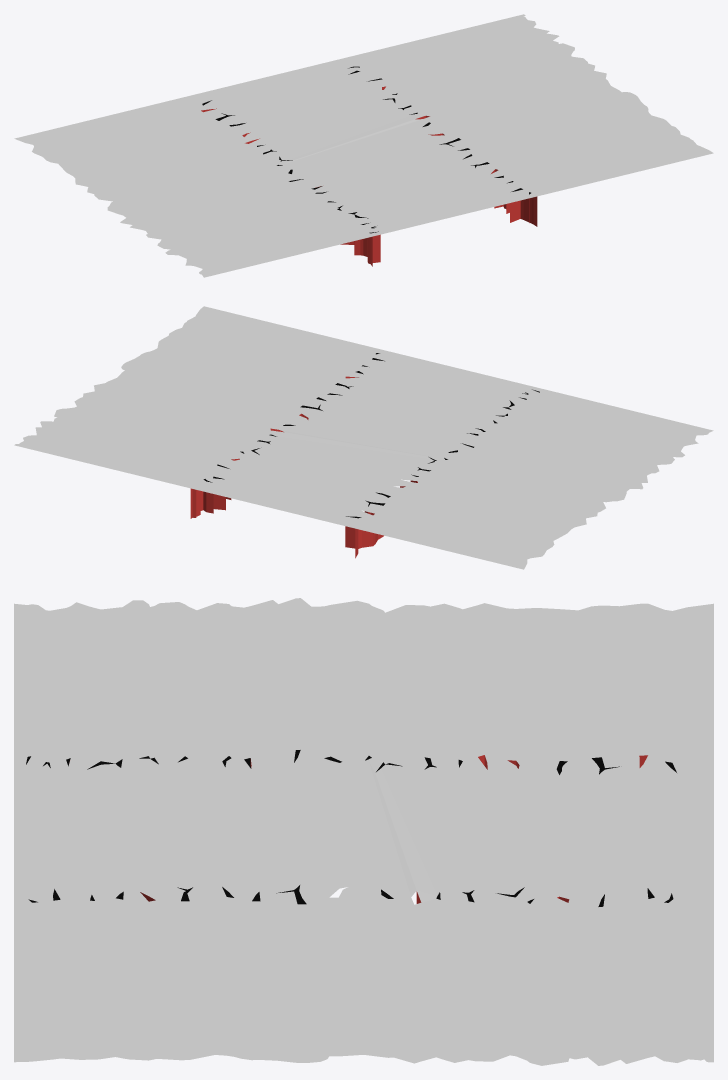
The model's file is newice2 1.fbx.
3 views of the same model, one above another, from view 1: azimuth 30°, elevation 25°; view 2: azimuth 150°, elevation 25°; view 3: azimuth 270°, elevation 25° (orthographic). The views are drawn at different scales.
Parts seen in each view (by area): view 1: Plane.006, Plane.007, Plane.008, Plane.001; view 2: Plane.006, Plane.007, Plane.008, Plane.001; view 3: Plane.006, Plane.007, Plane.008, Plane.001.
Part boxes in pixels (x1,y1,x2,y2): Plane.006: (347,14,713,226); Plane.007: (14,97,372,277); Plane.008: (183,57,536,266); Plane.001: (202,66,530,233); Plane.006: (14,306,379,518); Plane.007: (355,389,713,569); Plane.008: (190,349,544,548); Plane.001: (203,353,539,518); Plane.006: (14,896,713,1065); Plane.007: (14,598,713,767); Plane.008: (14,750,713,906); Plane.001: (26,750,676,906).
Bounding box in the file's own units: 8859 × 505 × 5600.
